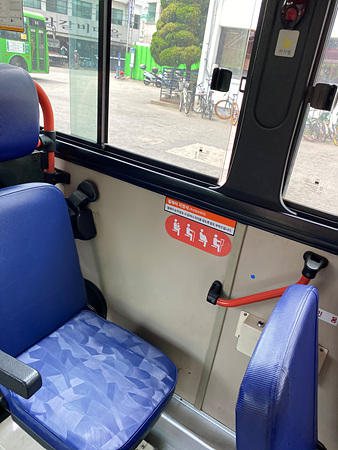seat: (3, 178, 176, 442)
